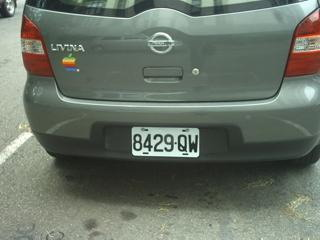plate: (131, 125, 201, 158)
